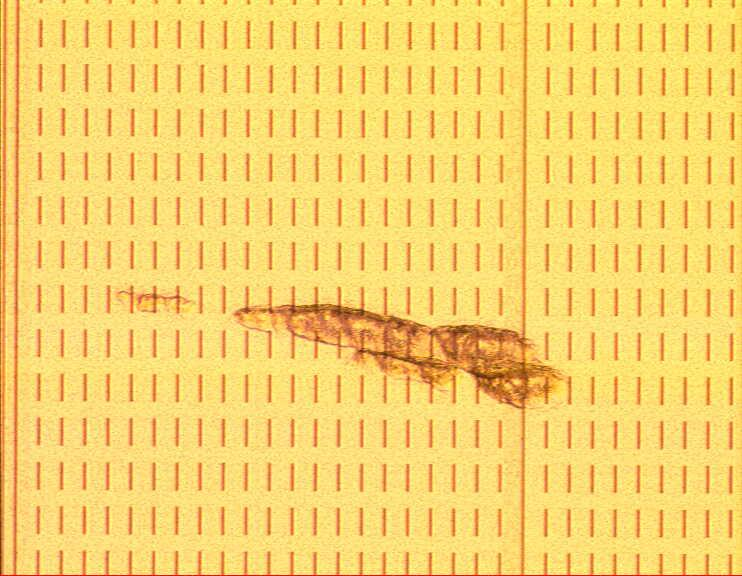SCRATCH: (108, 275, 576, 412)
